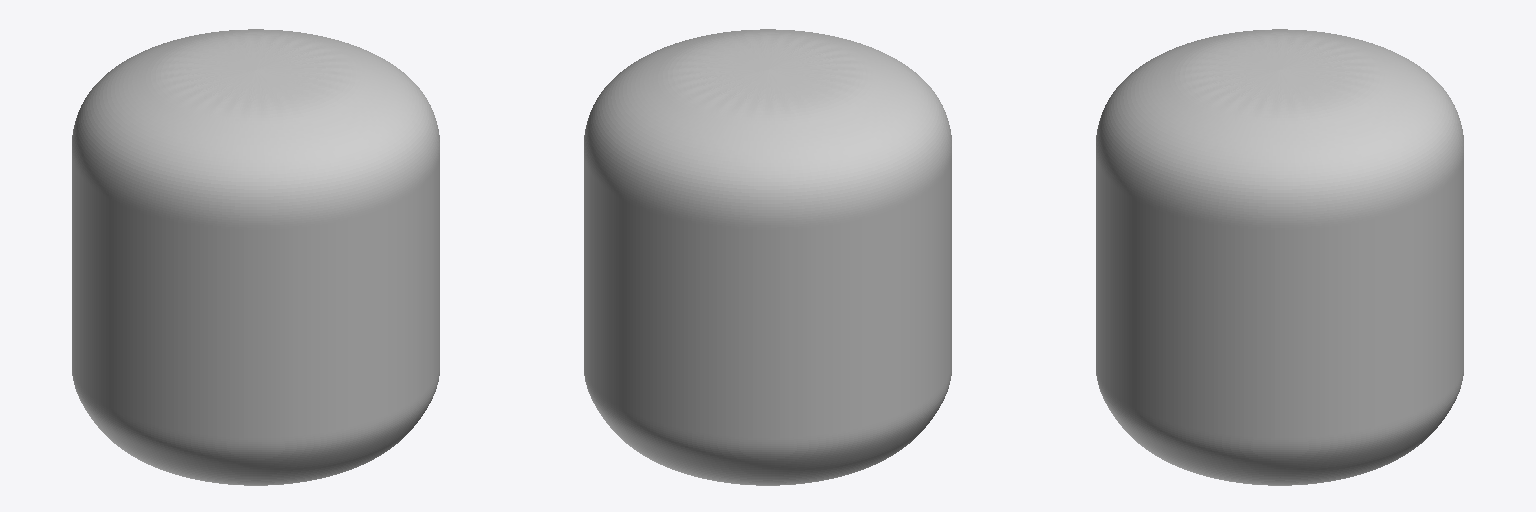
Rendered from roundedhead1.obj.
The picture shows the model from 3 angles: view 1: azimuth 30°, elevation 25°; view 2: azimuth 150°, elevation 25°; view 3: azimuth 270°, elevation 25°; orthographic projection.
Parts seen in each view (by area): view 1: Cylinder; view 2: Cylinder; view 3: Cylinder.
Boxes of the visible parts, <box> form: Cylinder: <box>72,29,439,485</box>; Cylinder: <box>584,29,951,485</box>; Cylinder: <box>1096,29,1463,485</box>.
Size of the model in its own units: 0.3052 by 0.3398 by 0.3052.